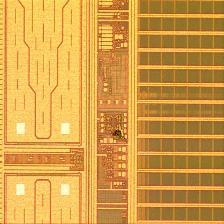PIQ PARTICLE: (111, 126, 131, 146)
